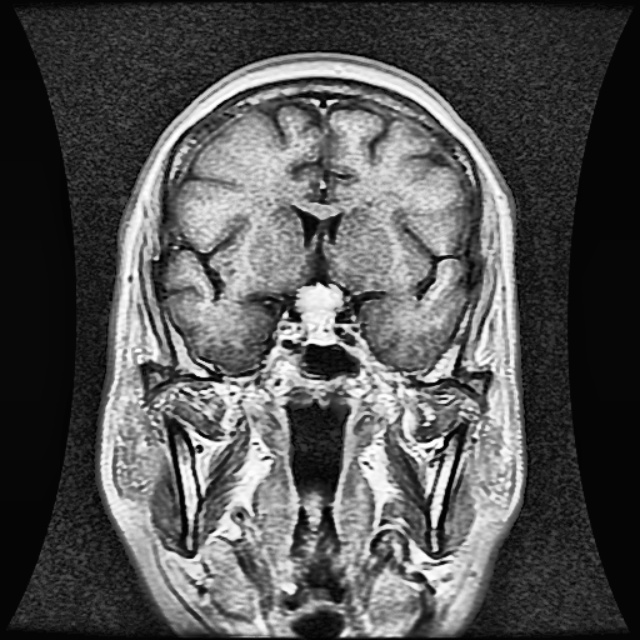Glioma: (293, 280, 344, 345)
